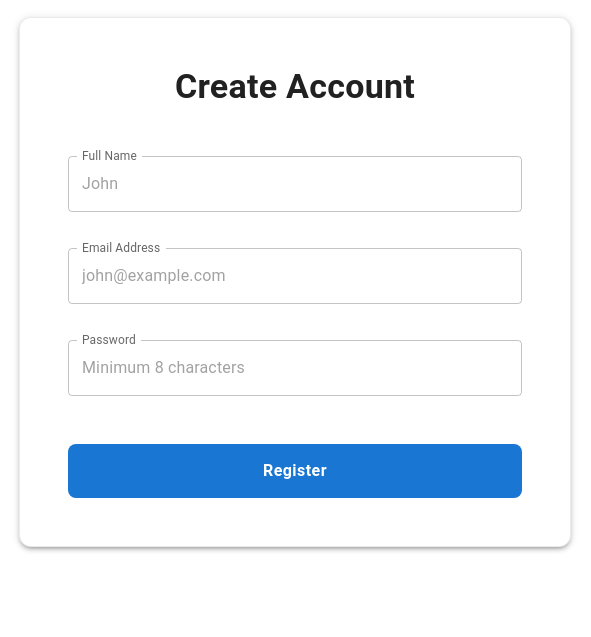
Register form › should show required error message when register is clicked
Use userEvent instead of fireEvent to click the button
Click the button "Register". click: (295, 471)
box: [68,444,522,498]
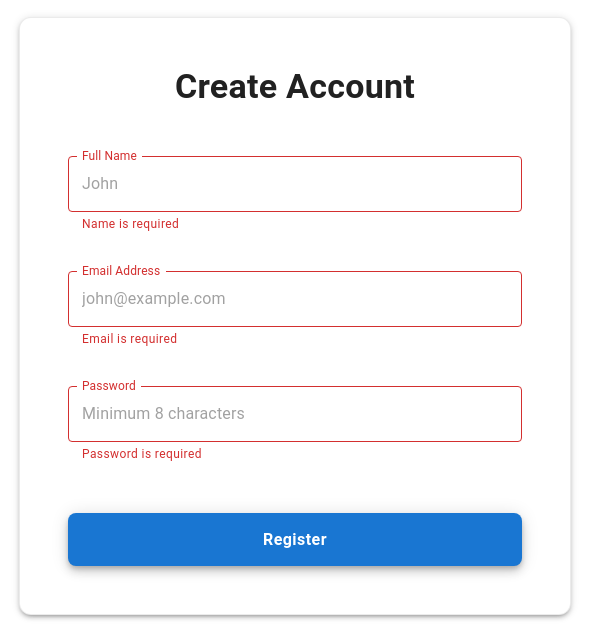
Check: the text "Name is required" is shown, box [82,217,179,231]
Check: the text "Email is required" is shown, box [82,332,177,346]
Check: the text "Password is required" is shown, box [82,447,202,461]
